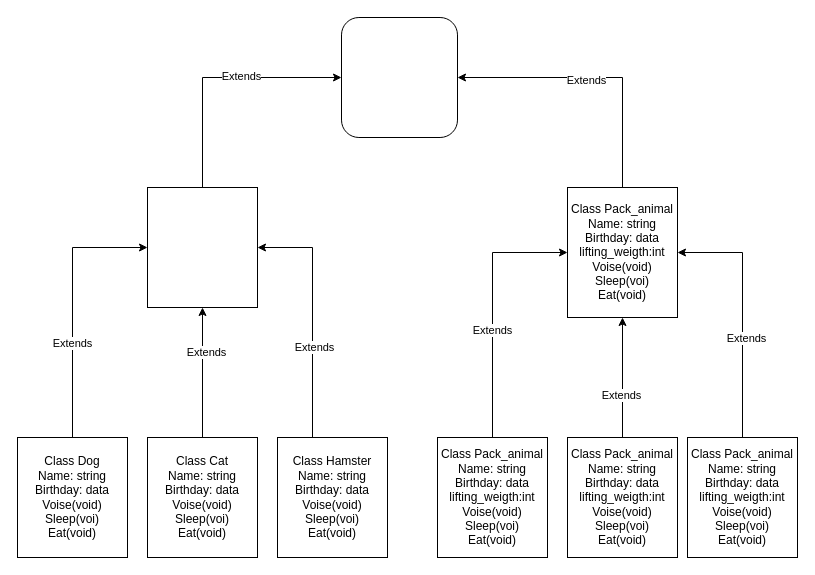
The diagram is 815 pixels wide and 575 high, and some of its shapes have lost their labels. The centre of each missing label's shape, as x and y in pixels:
"Class Human_frend Name: string Birthday: data Voise(void) Sleep(voi) Eat(void)" belongs at point (399, 77).
"Class Pet Name: string Birthday: data Voise(void) Sleep(voi) Eat(void)" belongs at point (202, 247).
